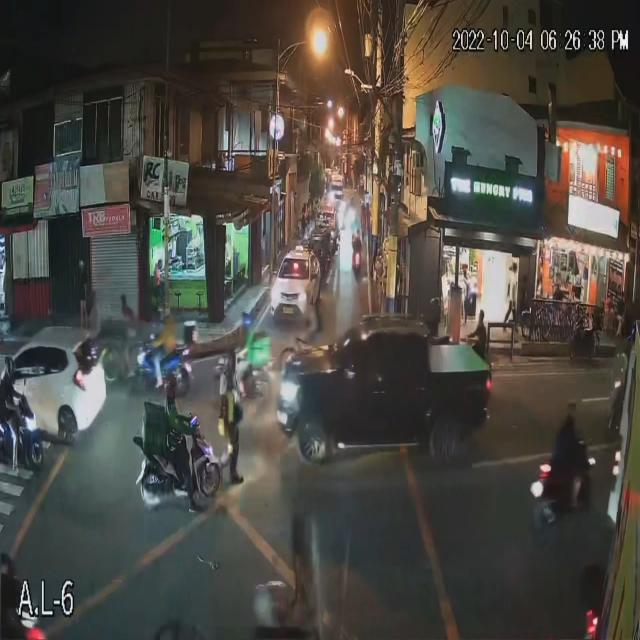Full-Faced: (250, 570, 294, 626), (161, 364, 183, 404), (1, 346, 17, 382)
Not-Wearing-Helmet: (560, 393, 582, 422)
